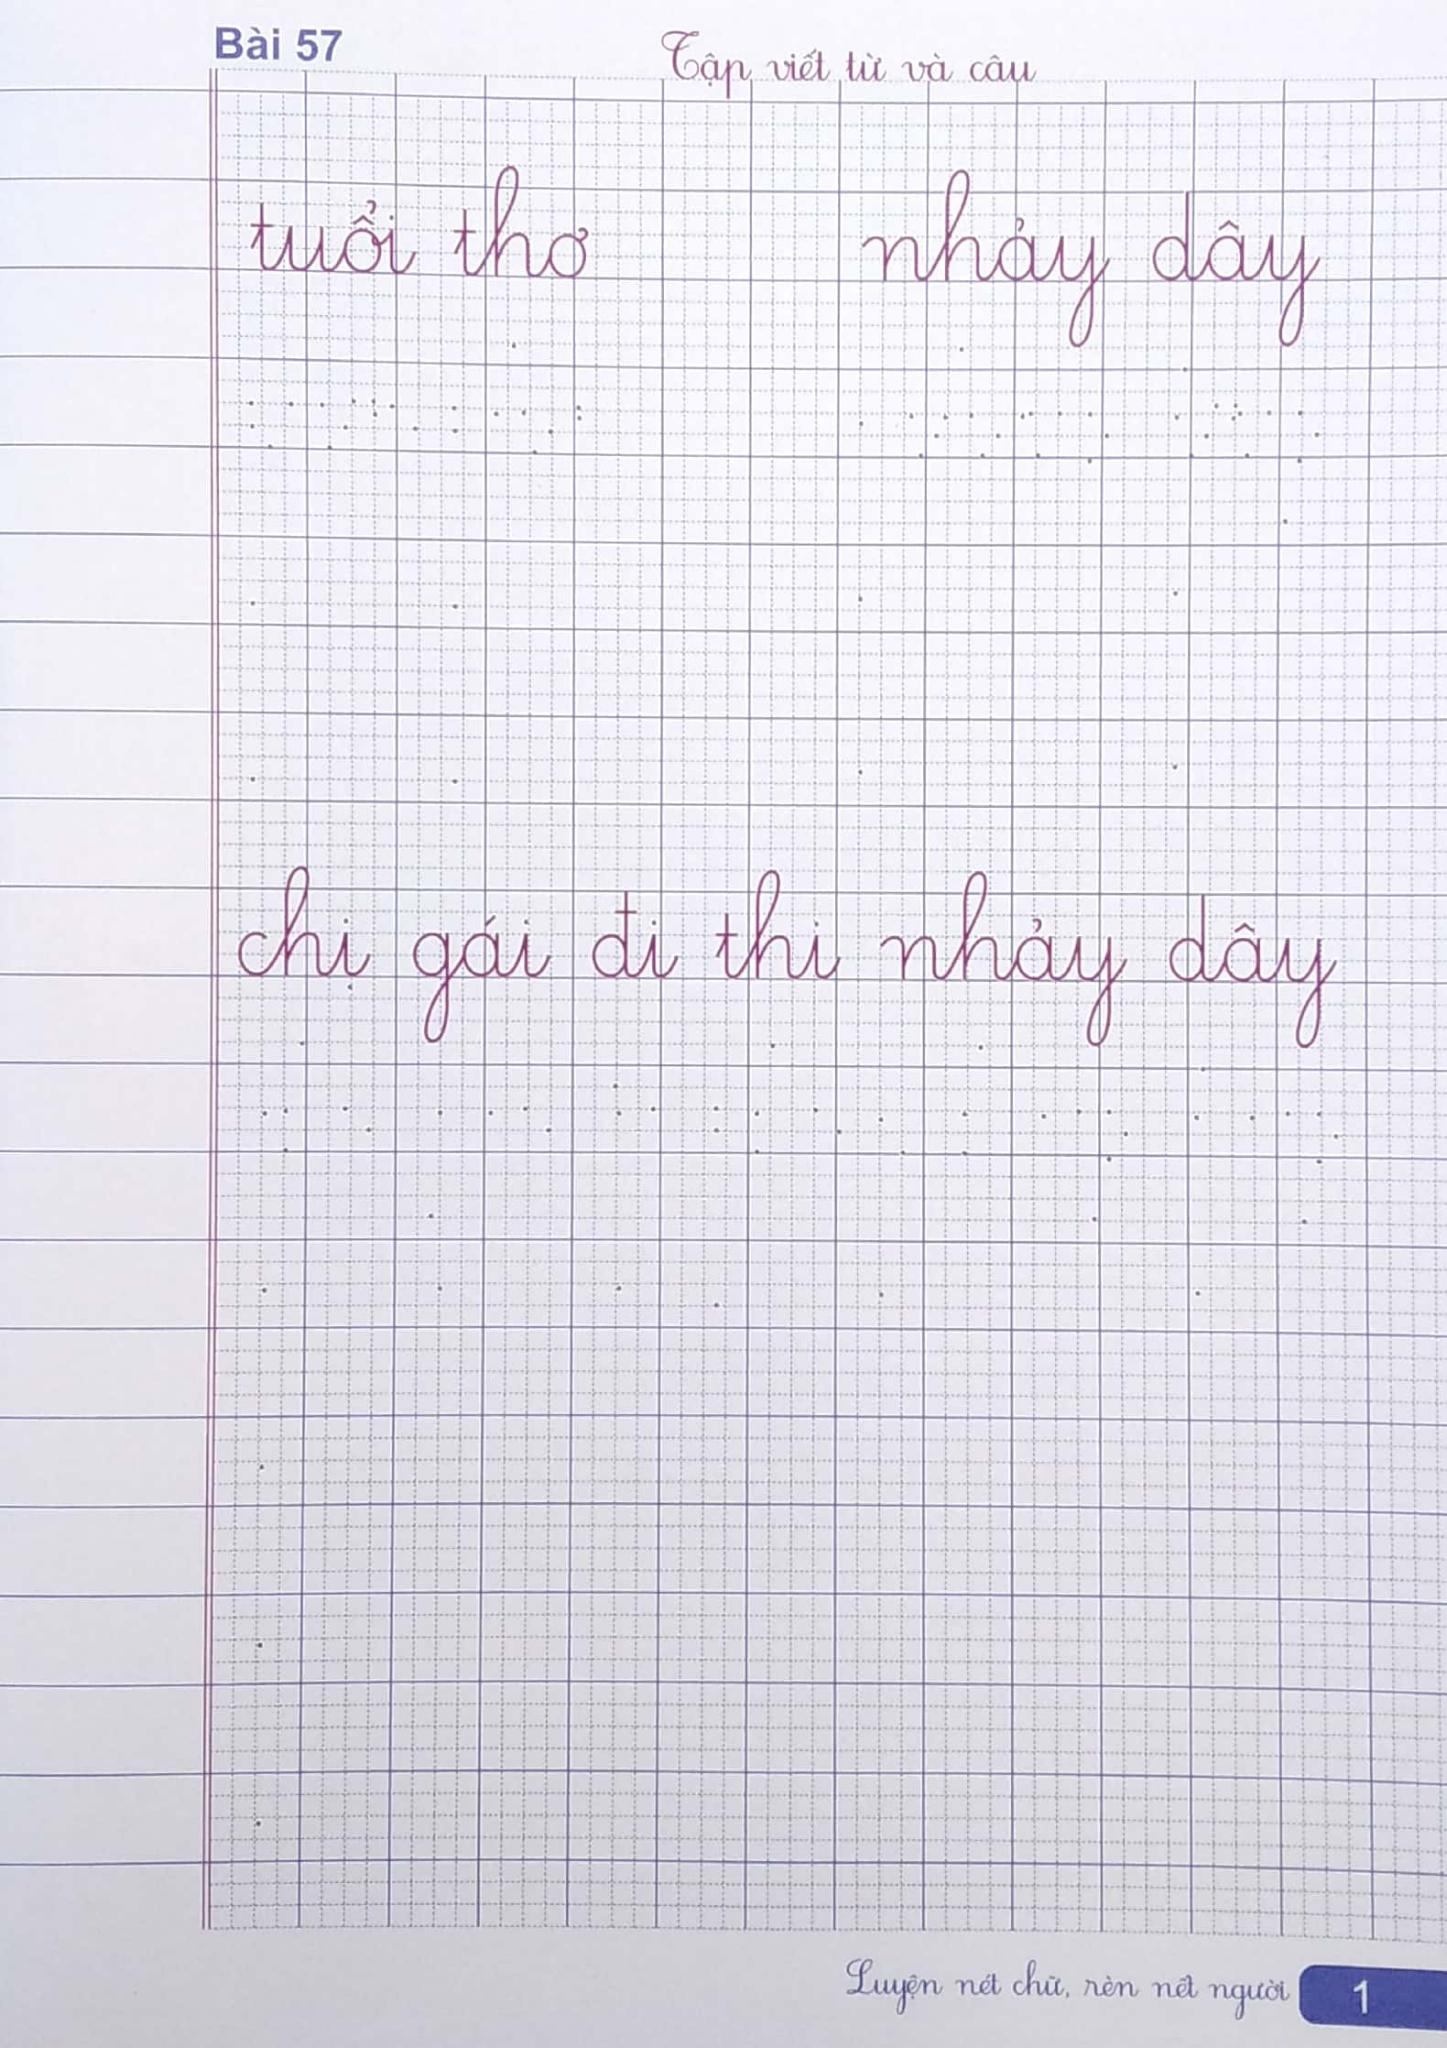text: (230, 853, 1350, 1057), (849, 166, 1331, 354), (238, 157, 598, 291), (839, 1949, 1297, 2018), (651, 25, 1037, 96), (205, 19, 357, 70), (1350, 1971, 1372, 2021)
